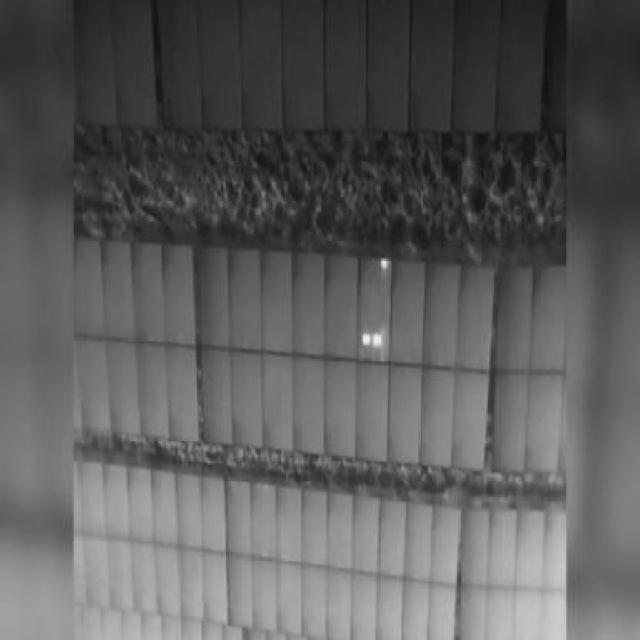hotspot: (371, 332, 382, 351), (377, 258, 389, 274), (362, 332, 371, 348)
